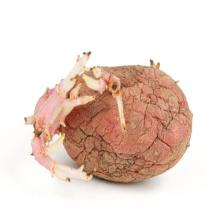Sprouted potato: (8, 33, 199, 190)
